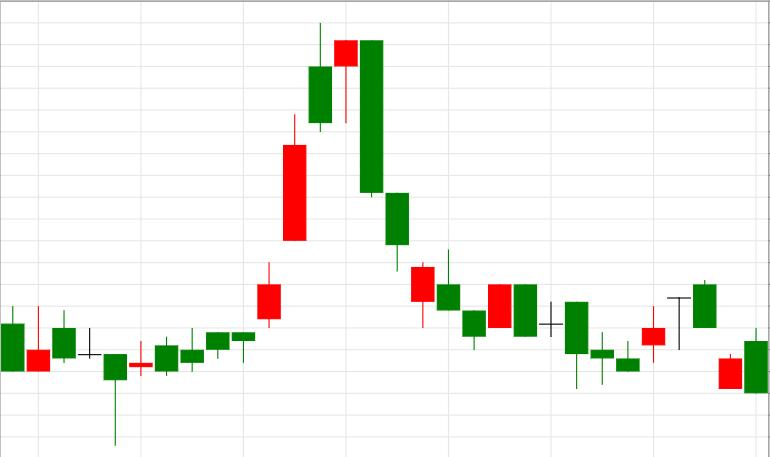bearish_engulfing_fall: (129, 24, 383, 377)
hanging_man_fall: (129, 23, 357, 377)
